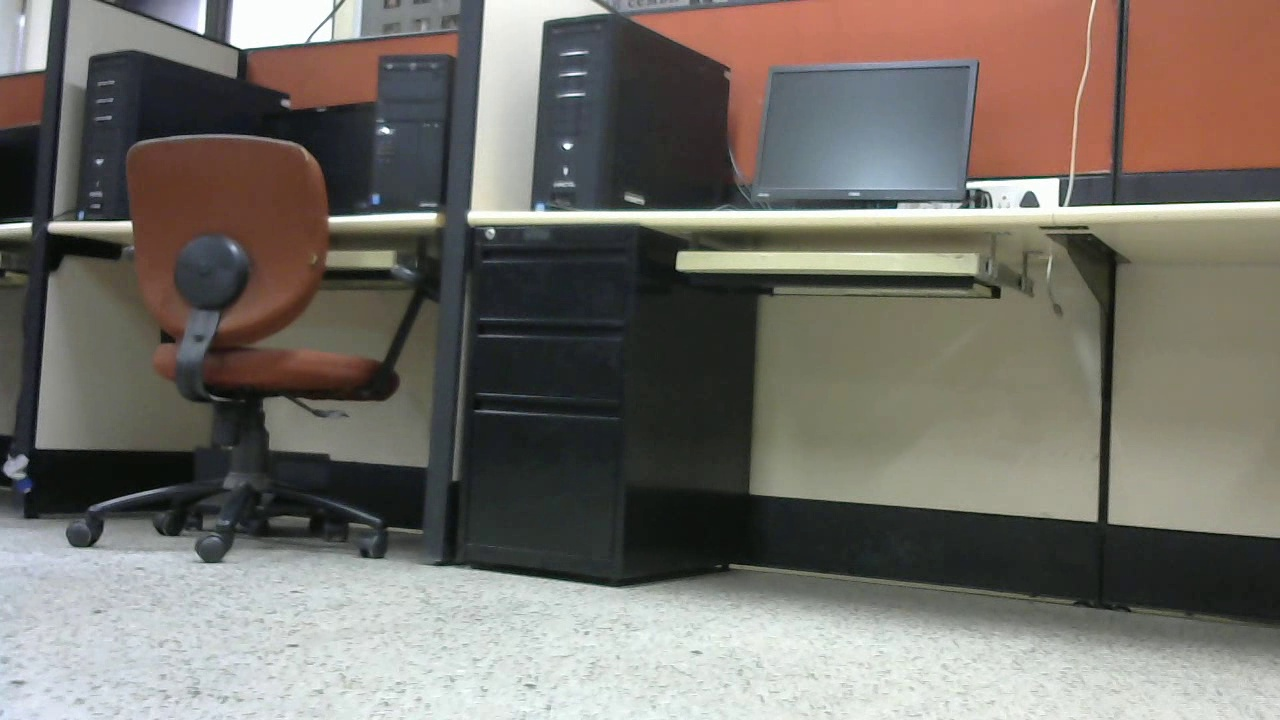chair: (70, 131, 441, 561)
